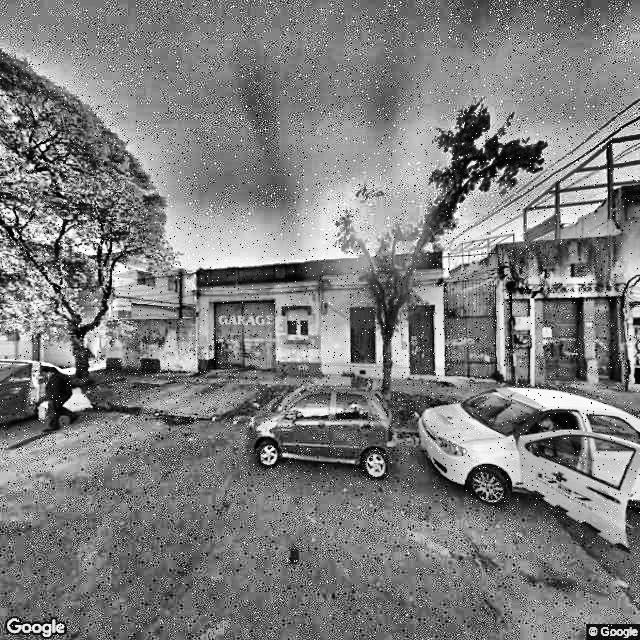Dustbin: (1, 353, 91, 431)
